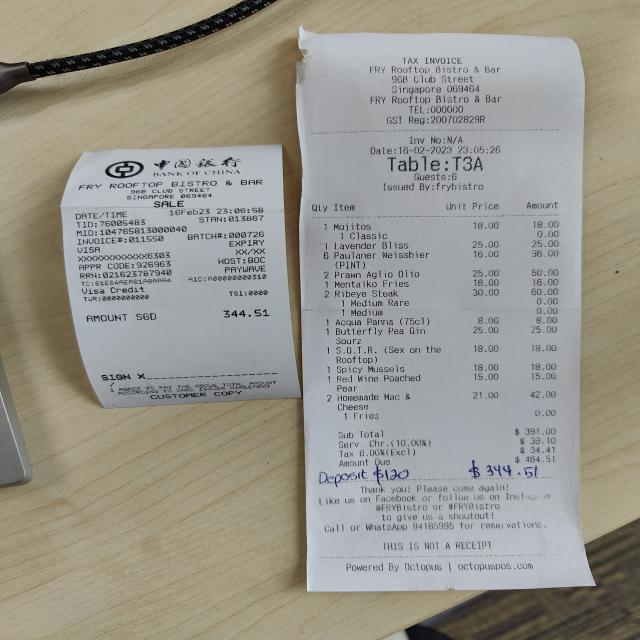bill_region: (311, 217, 565, 468)
